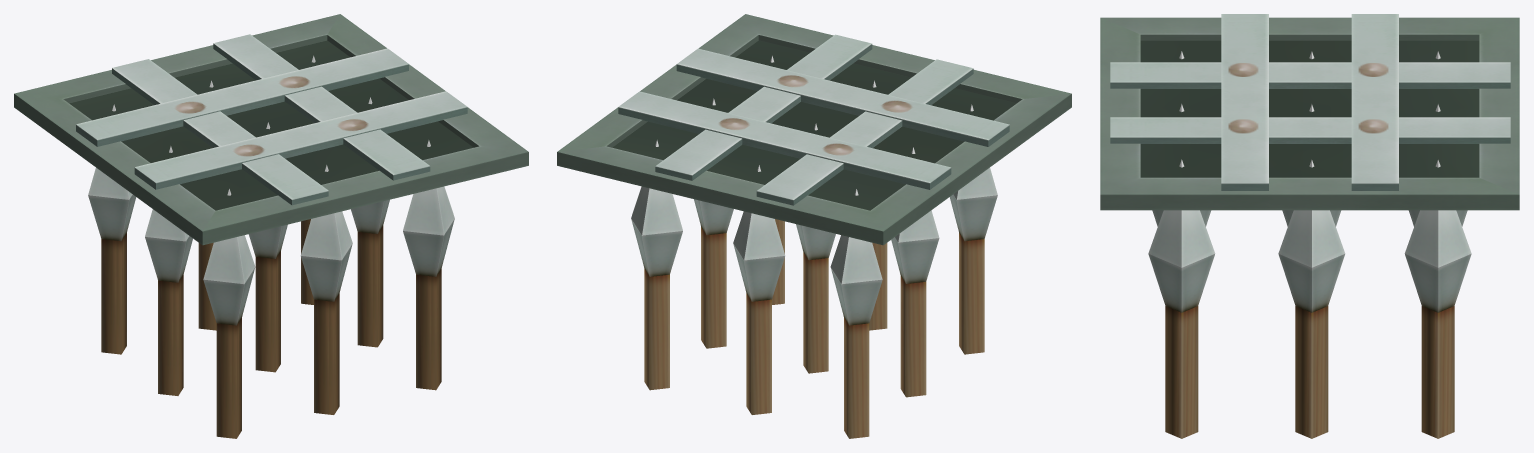
Rendered from Trap04.FBX.
3 renders of one model, left to right at view 1: azimuth 30°, elevation 25°; view 2: azimuth 150°, elevation 25°; view 3: azimuth 270°, elevation 25°, orthographic. The views are drawn at different scales.
Parts seen in each view (by area): view 1: Trap04, Needle; view 2: Trap04, Needle; view 3: Trap04, Needle.
Boxes of the visible parts, x1,y1,x2,y2 form: Trap04: (14,14,528,245); Needle: (88,55,454,438); Trap04: (557,14,1071,245); Needle: (631,55,997,438); Trap04: (1100,14,1519,210); Needle: (1148,51,1471,438).
Size of the model in its own units: 250 by 184 by 250.
